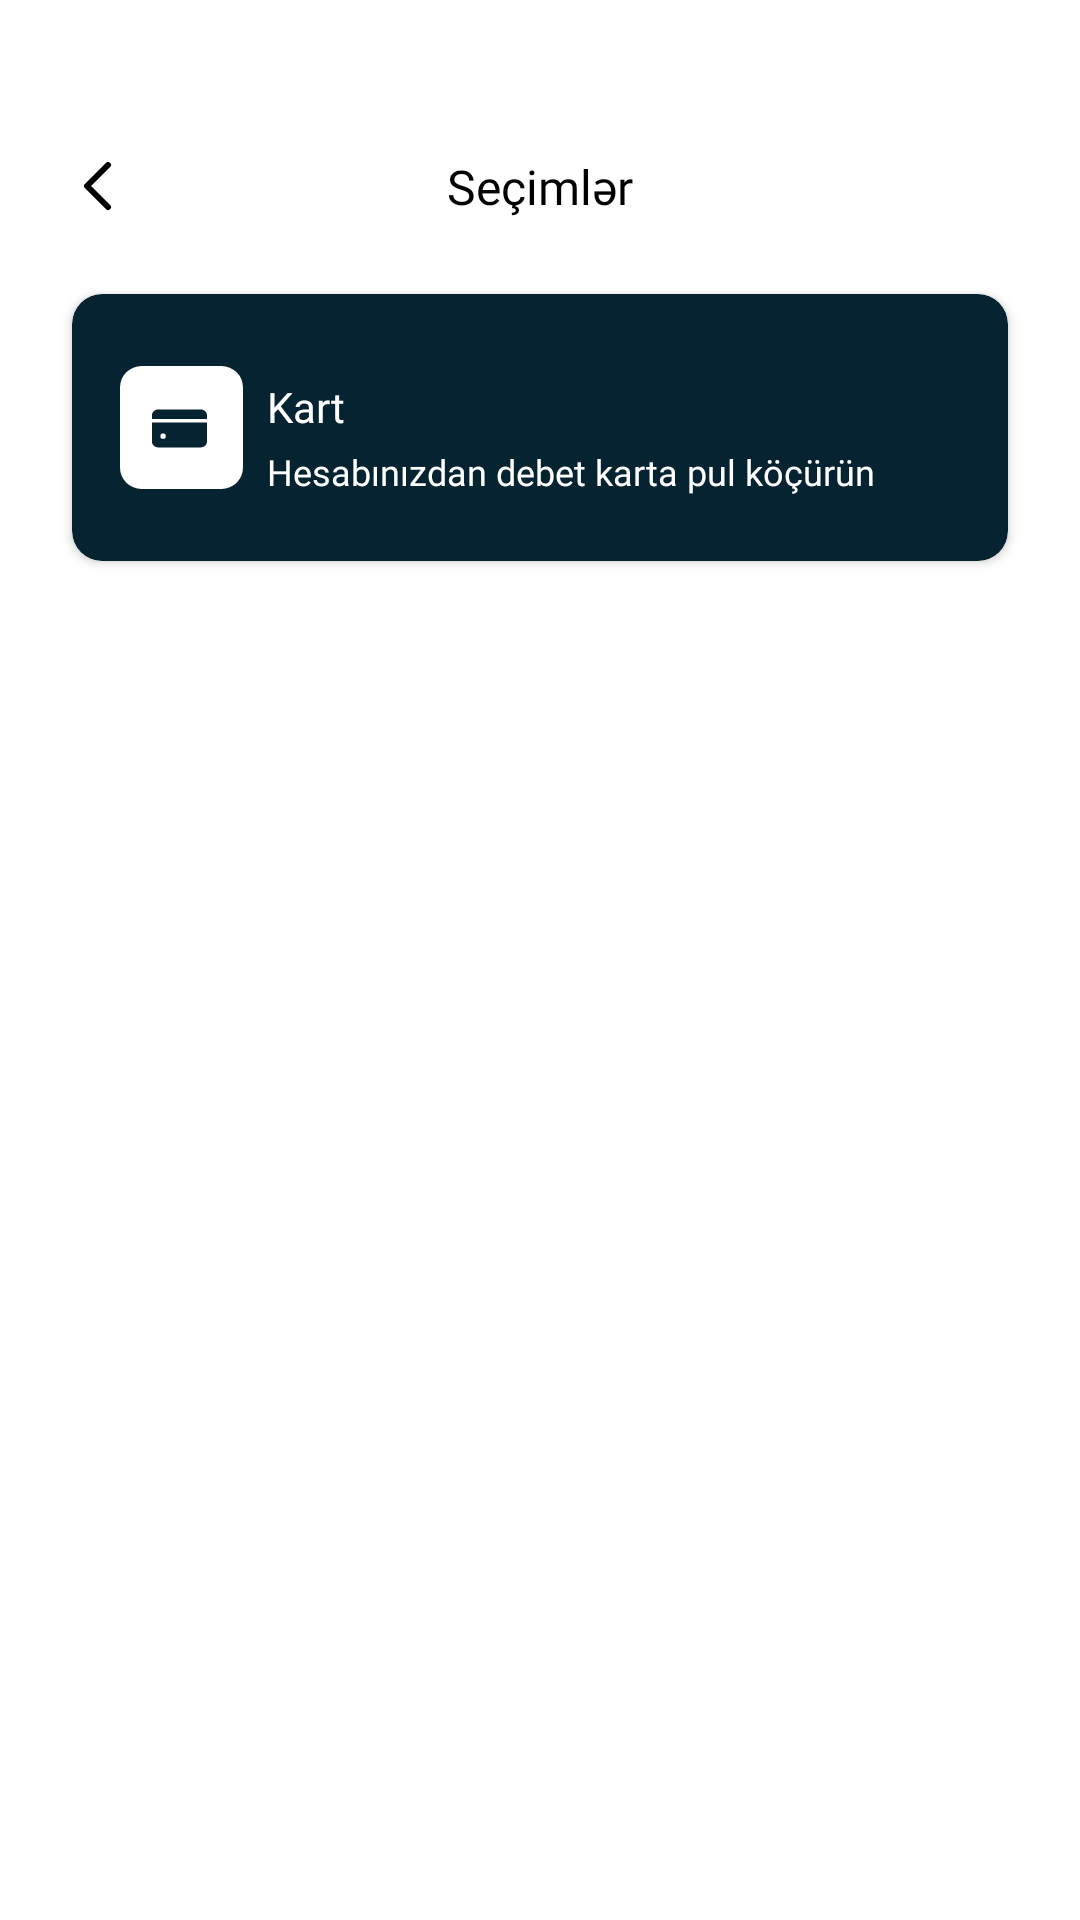

Point at icon controls on the screen. Image size 1080px x 1920px, points as (x,y).
back: (97,186)
